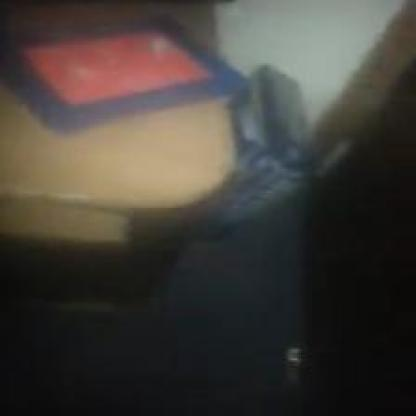other: (21, 37, 222, 101)
